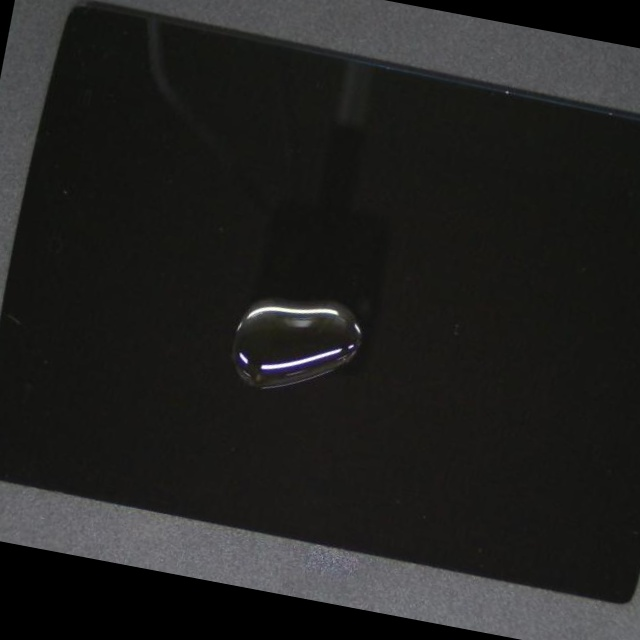oil: (148, 161, 591, 539)
